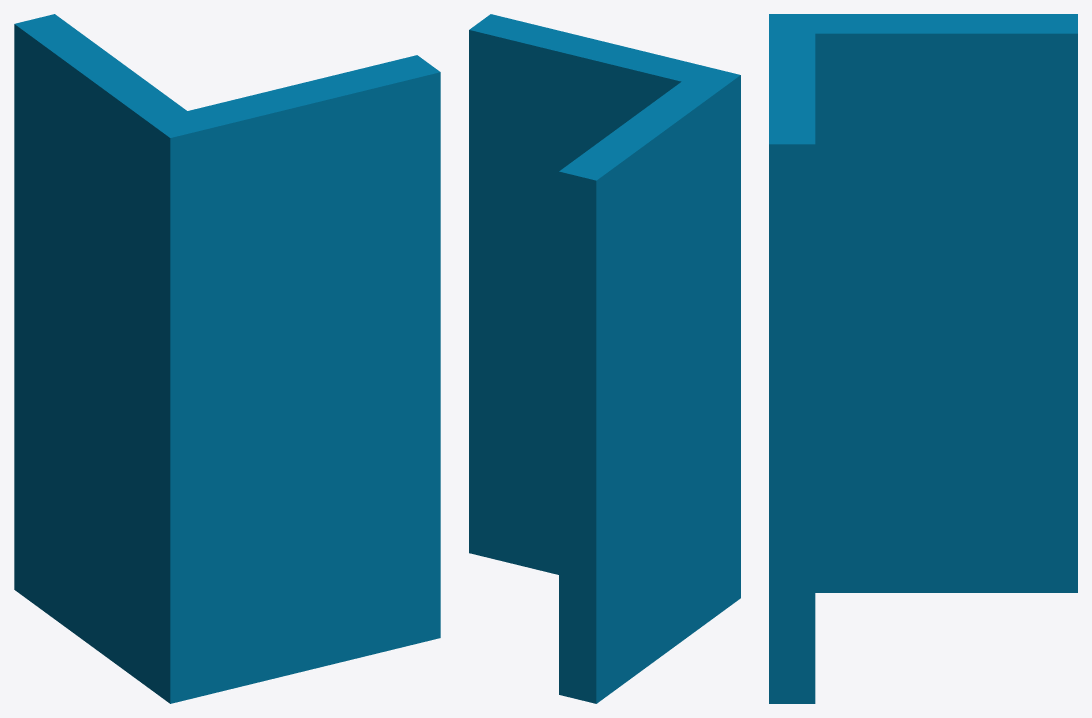
File: BlueCorner.glb
3 renders of one model, left to right at view 1: azimuth 30°, elevation 25°; view 2: azimuth 150°, elevation 25°; view 3: azimuth 270°, elevation 25°, orthographic. The views are drawn at different scales.
Visible parts, largest first — view 1: wall_plain_corner_blue; view 2: wall_plain_corner_blue; view 3: wall_plain_corner_blue.
Part boxes in pixels (<box>): wall_plain_corner_blue: <box>14,14,440,703</box>; wall_plain_corner_blue: <box>469,14,740,703</box>; wall_plain_corner_blue: <box>769,14,1077,703</box>.
Size of what is drawn, in the model's own units: 2 by 4 by 2.
Materials: 1 (1 with a texture image).
